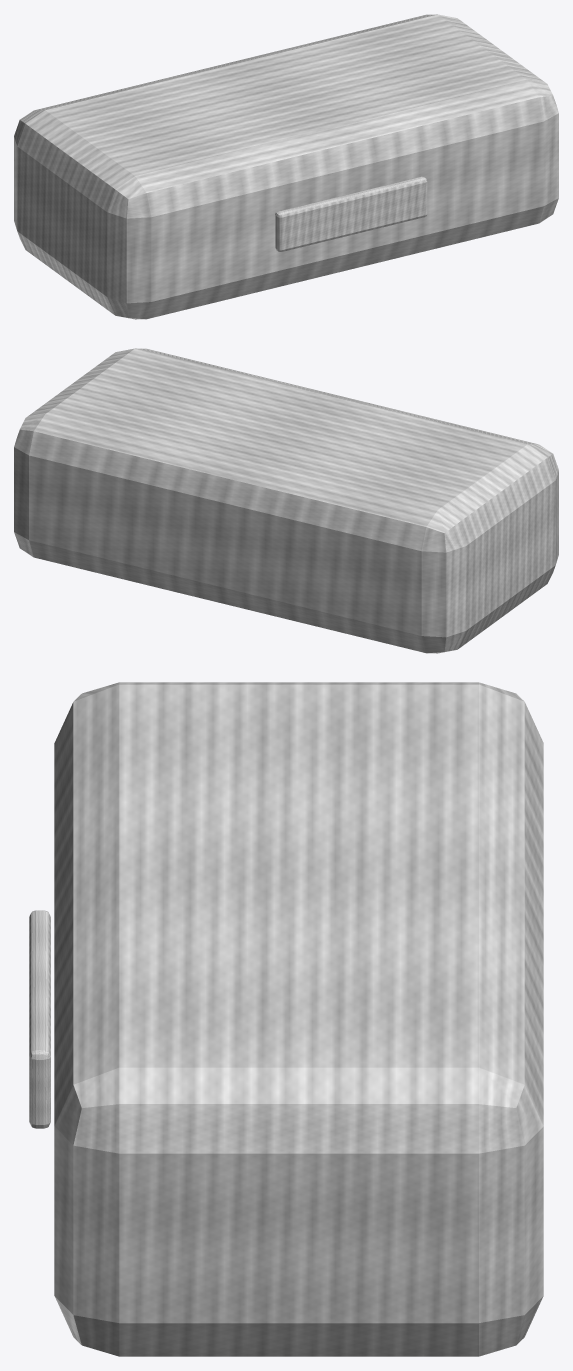
File: item-ficsite-ingot_variant_a.glb
The picture shows the model from 3 angles, top to bottom: view 1: azimuth 30°, elevation 25°; view 2: azimuth 150°, elevation 25°; view 3: azimuth 270°, elevation 25°; orthographic projection. The views are drawn at different scales.
Visible parts, largest first — view 1: Metal ingot, Ingot stamped mark; view 2: Metal ingot; view 3: Metal ingot, Ingot stamped mark.
Boxes of the visible parts, x1,y1,x2,y2 form: Metal ingot: (14, 14, 558, 319); Ingot stamped mark: (275, 176, 427, 251); Metal ingot: (14, 348, 558, 653); Metal ingot: (54, 682, 543, 1356); Ingot stamped mark: (29, 910, 50, 1128).
Size of what is drawn, in the model's own units: 0.72 by 0.22 by 0.3575.
2 materials, 2 textured.
